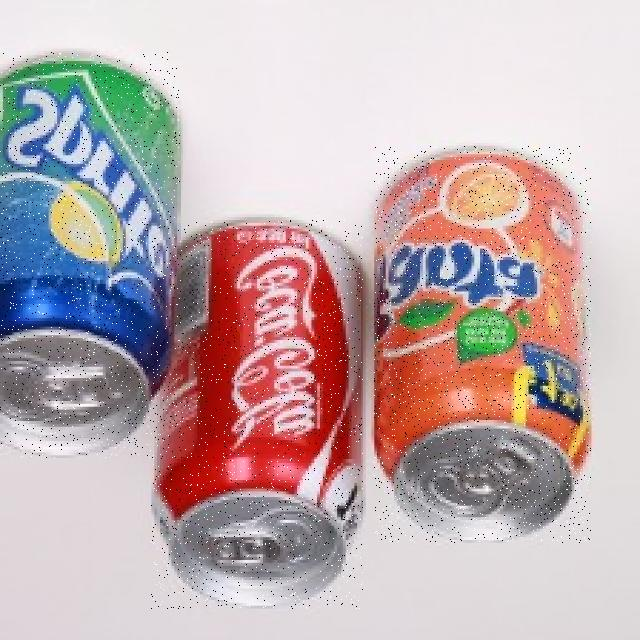metal: (375, 146, 591, 543), (152, 220, 363, 608), (0, 52, 180, 457)
